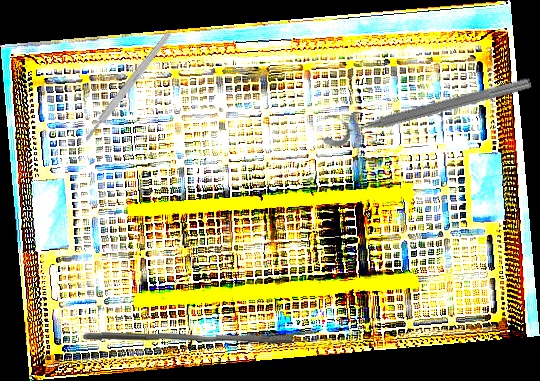Fixation Ring: (316, 60, 534, 151)
Pusher: (82, 328, 293, 348)
Scalpel Handle: (82, 29, 174, 143)
